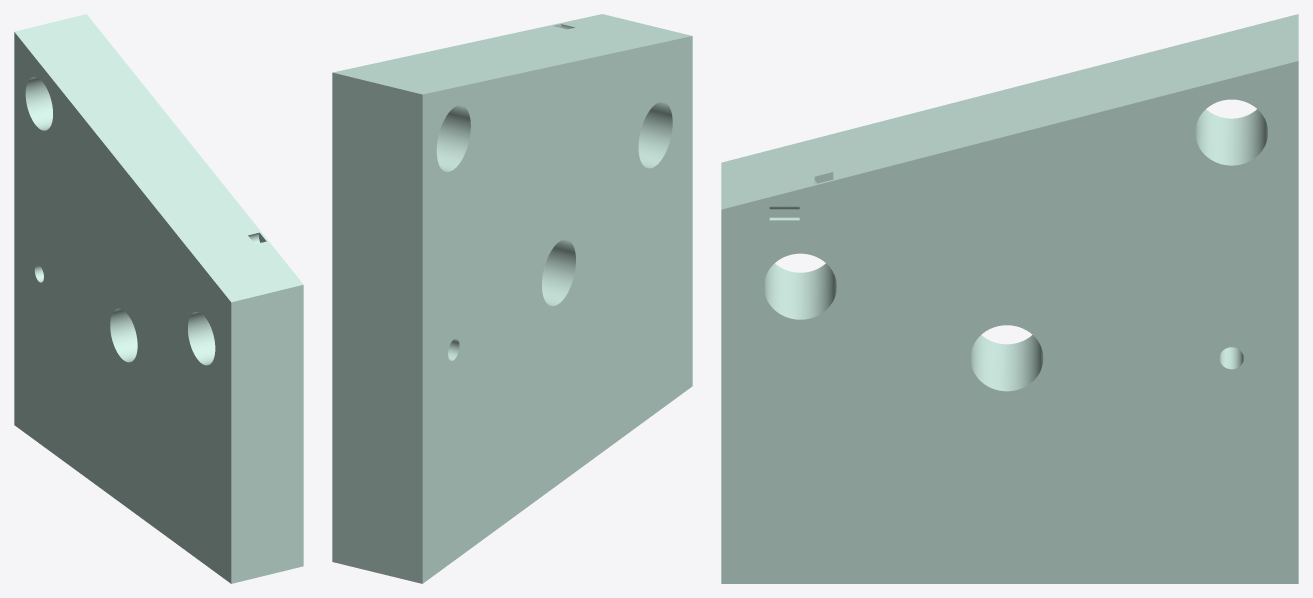
The picture shows the model from 3 angles, left to right: view 1: azimuth 30°, elevation 25°; view 2: azimuth 150°, elevation 25°; view 3: azimuth 270°, elevation 25°; orthographic projection. The views are drawn at different scales.
Visible parts, largest first — view 1: Renderer Node; view 2: Renderer Node; view 3: Renderer Node.
Boxes of the visible parts, x1,y1,x2,y2 form: Renderer Node: [14, 14, 303, 583]; Renderer Node: [332, 14, 692, 583]; Renderer Node: [721, 14, 1298, 583].
Bounding box in the file's own units: 0.2891 × 1.5 × 1.5.
